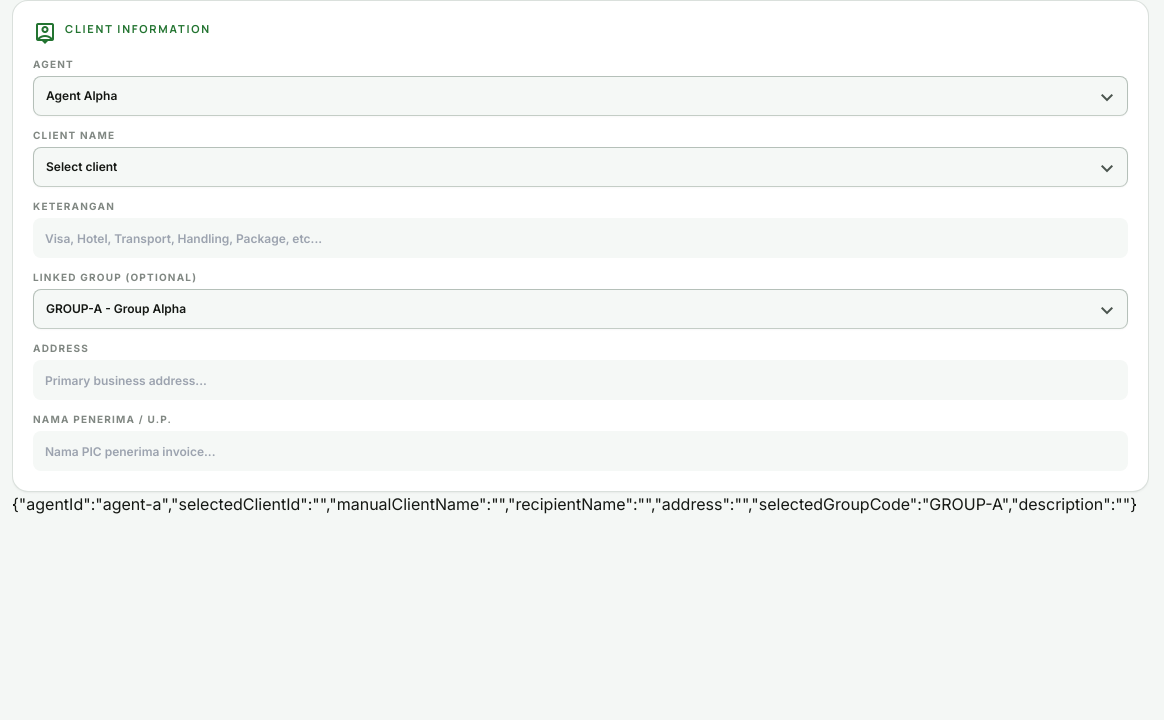
invoice name selection › searches active agents and resets the linked group only after selecting another agent
Click the button labelled "Agent Alpha" at (82, 96), box [33,76,1128,116]
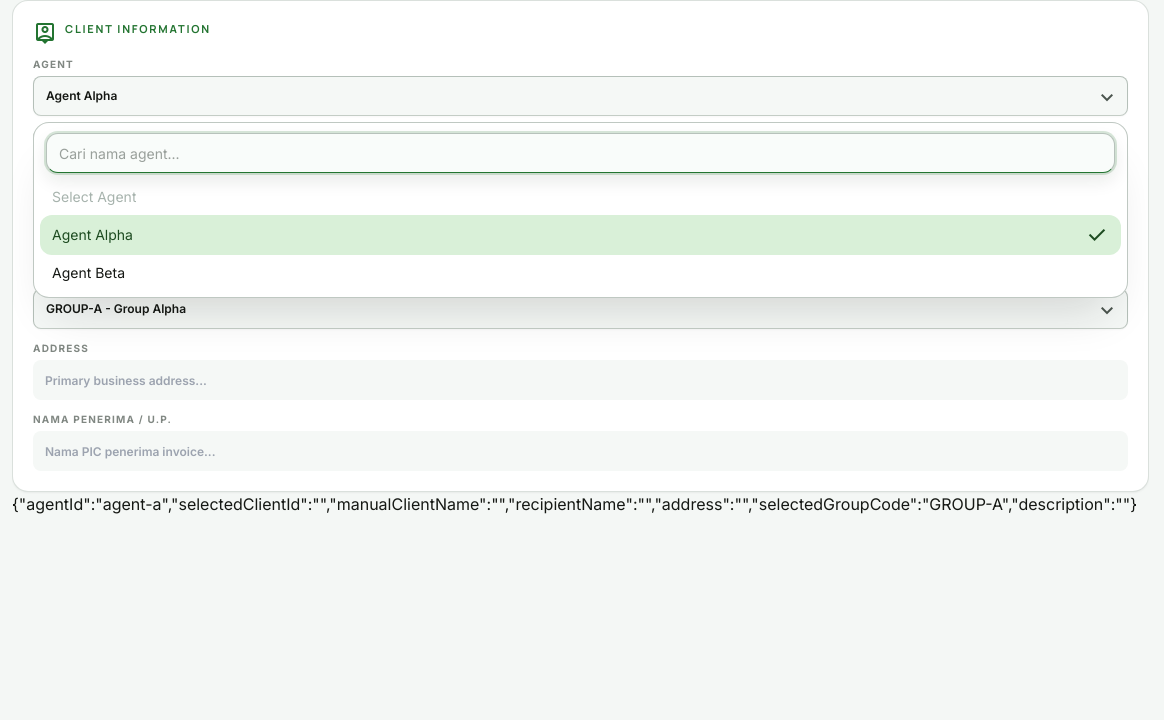
Type "beta" into the dropdown labelled "Cari nama agent..." at (580, 153), box [46,133,1115,173]
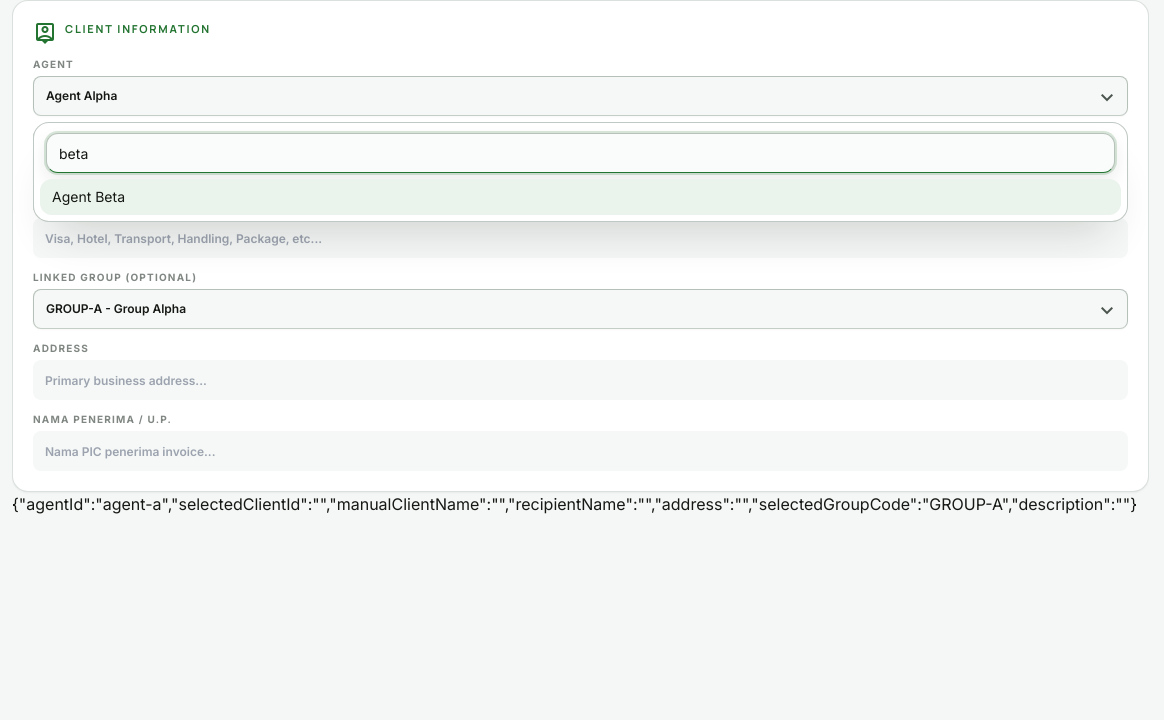
Click the option "Agent Beta" at (89, 196), box [40,179,1121,215]
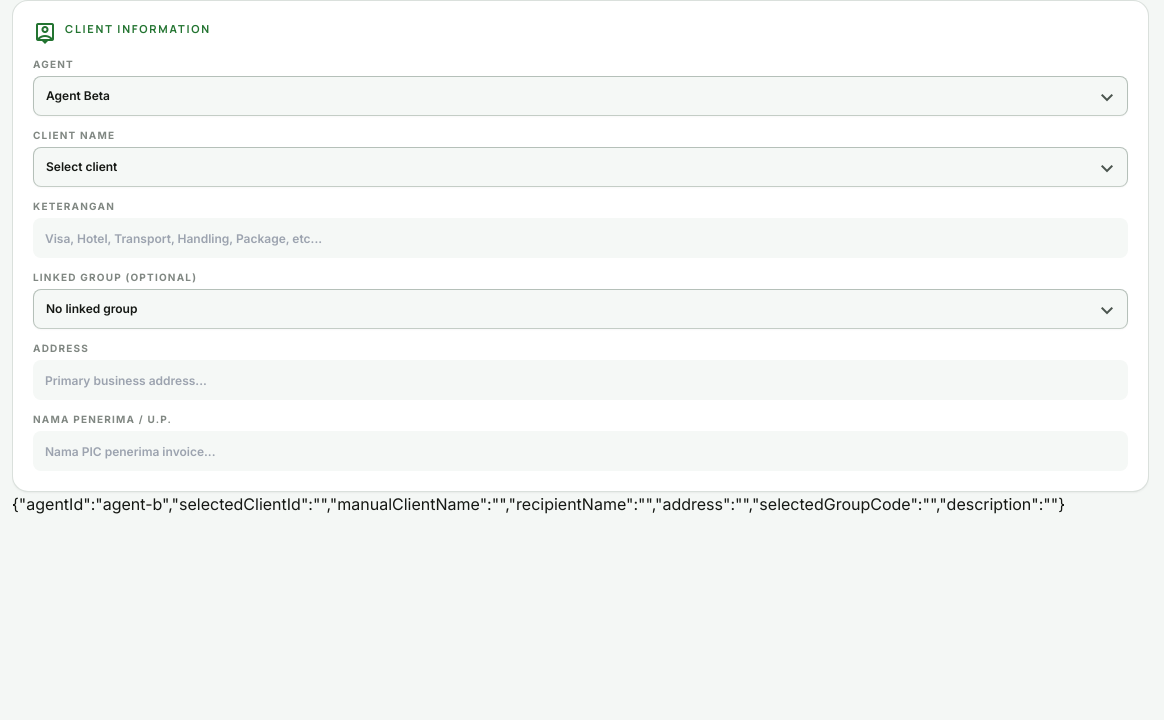
Click the button "No linked group" at (92, 308), box [33,289,1128,329]
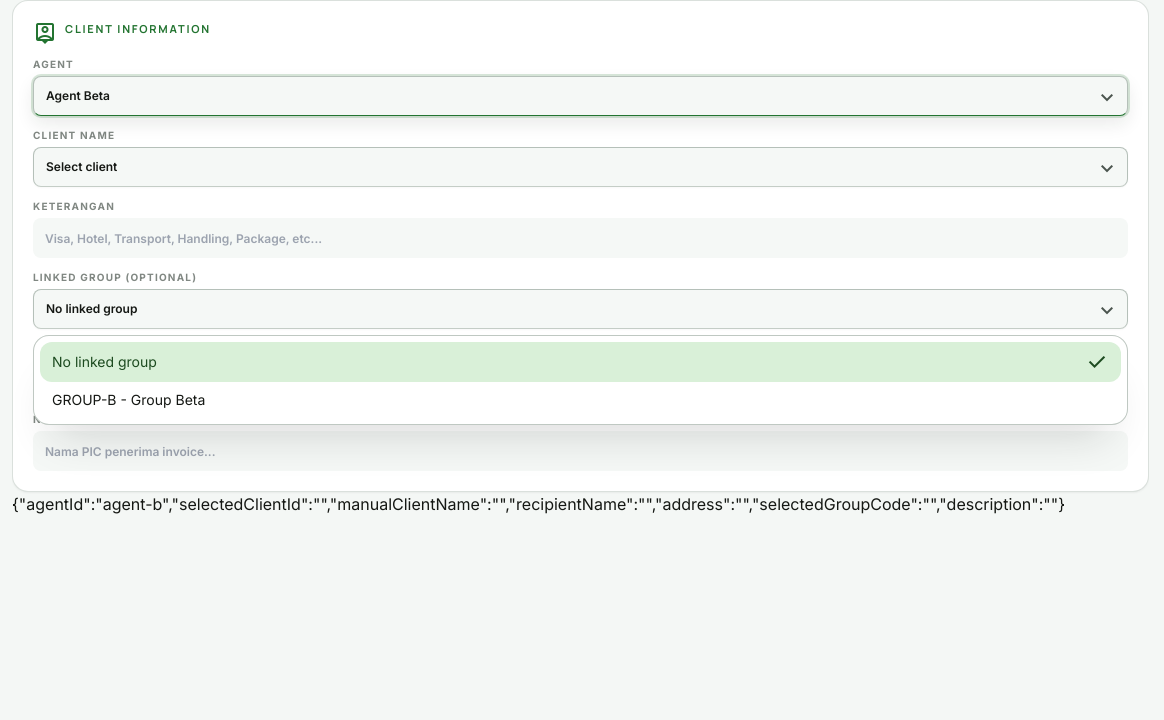
Expected: the button "GROUP-A - Group Alpha" is not shown
Expected: the option "GROUP-B - Group Beta" is shown, [40,382,1121,418]
